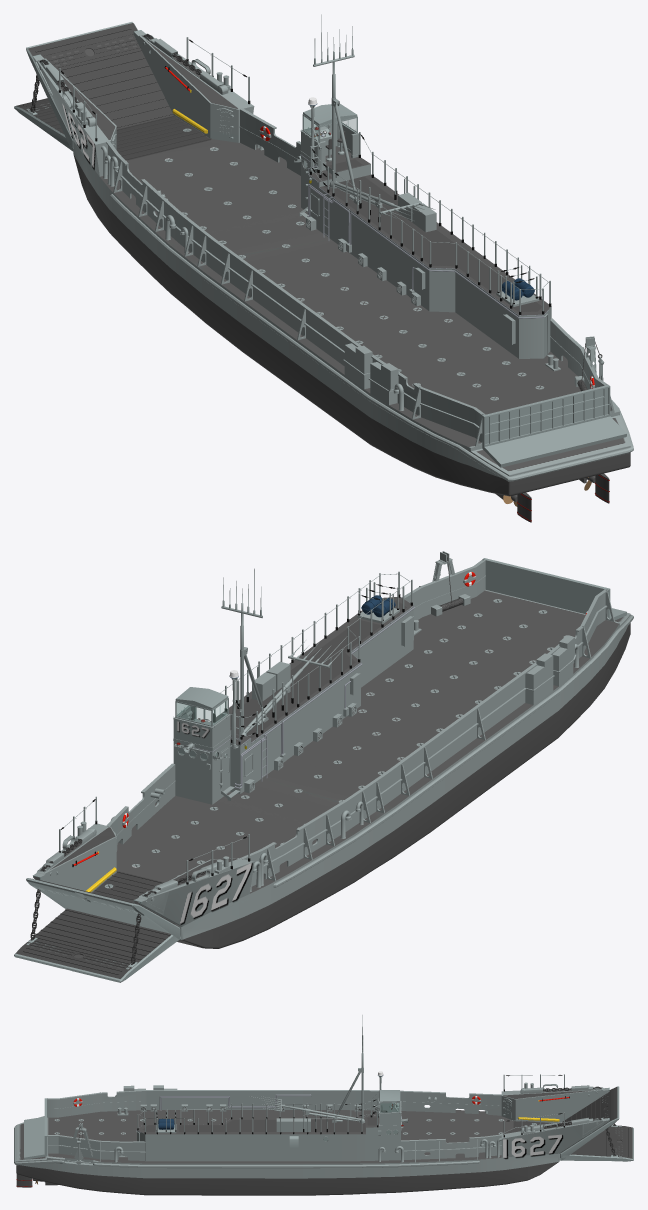
3 views of the same model, one above another, from view 1: azimuth 30°, elevation 25°; view 2: azimuth 150°, elevation 25°; view 3: azimuth 270°, elevation 25° (orthographic). The views are drawn at different scales.
Visible parts, largest first — view 1: body, closed, b_r_closed, b_r_open, must_open, open, cabin, must_closed; view 2: body, open, b_r_closed, closed, cabin, must_open, must_closed; view 3: body, open, closed, b_r_open, must_closed, cabin, must_open.
Part boxes in pixels (<box>): body: <box>33,30,633,522</box>; closed: <box>26,22,173,150</box>; b_r_closed: <box>482,384,610,449</box>; b_r_open: <box>482,416,626,467</box>; must_open: <box>313,14,358,202</box>; open: <box>14,74,73,151</box>; cabin: <box>302,103,357,142</box>; must_closed: <box>334,181,435,221</box>; body: <box>33,551,633,948</box>; open: <box>14,878,180,982</box>; b_r_closed: <box>483,558,610,618</box>; closed: <box>26,878,180,939</box>; cabin: <box>175,687,228,726</box>; must_open: <box>221,568,266,732</box>; must_closed: <box>244,636,347,733</box>; body: <box>14,1071,609,1195</box>; open: <box>560,1123,633,1161</box>; closed: <box>560,1086,619,1160</box>; b_r_open: <box>24,1117,44,1159</box>; must_closed: <box>249,1096,360,1121</box>; cabin: <box>380,1090,400,1112</box>; must_open: <box>333,1015,363,1120</box>.
Size of the model in its own units: 305 by 427 by 1376.
21 materials, 8 textured.
